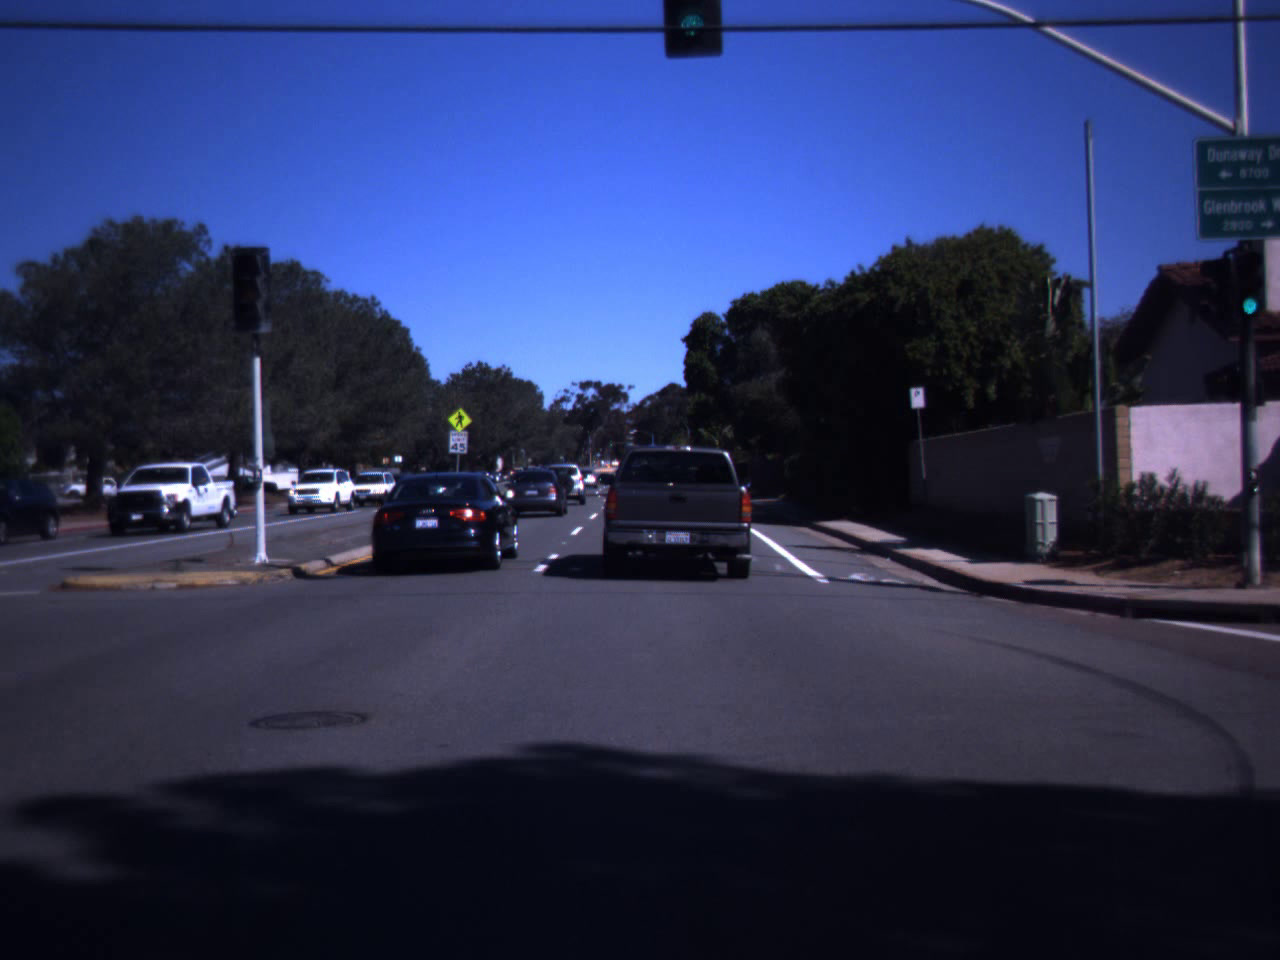go: (1249, 245, 1280, 320), (659, 0, 725, 26)
